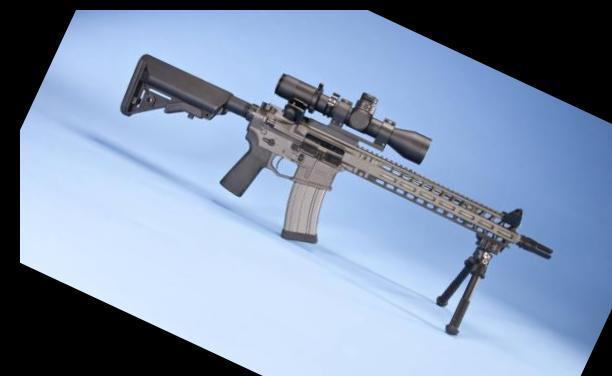larga: (120, 54, 555, 337)
